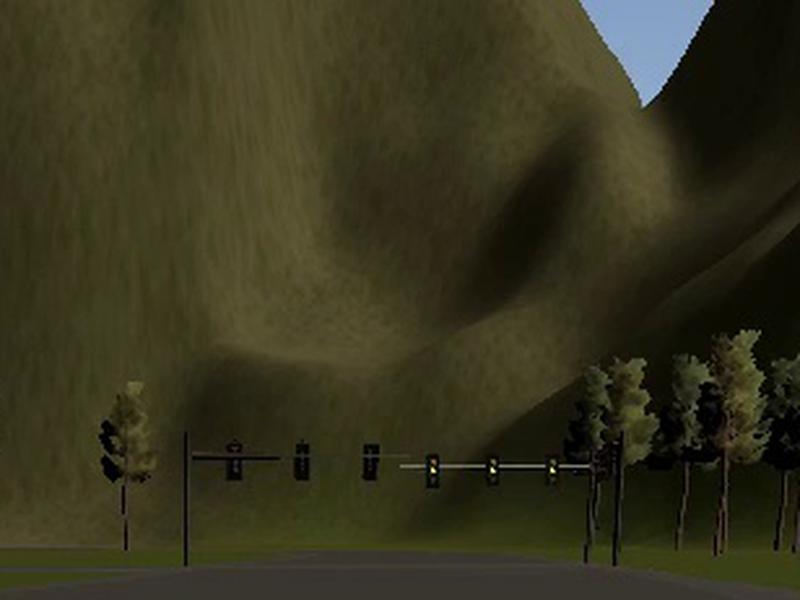Yellow: (425, 454, 438, 489), (486, 455, 500, 486), (545, 454, 559, 485)
